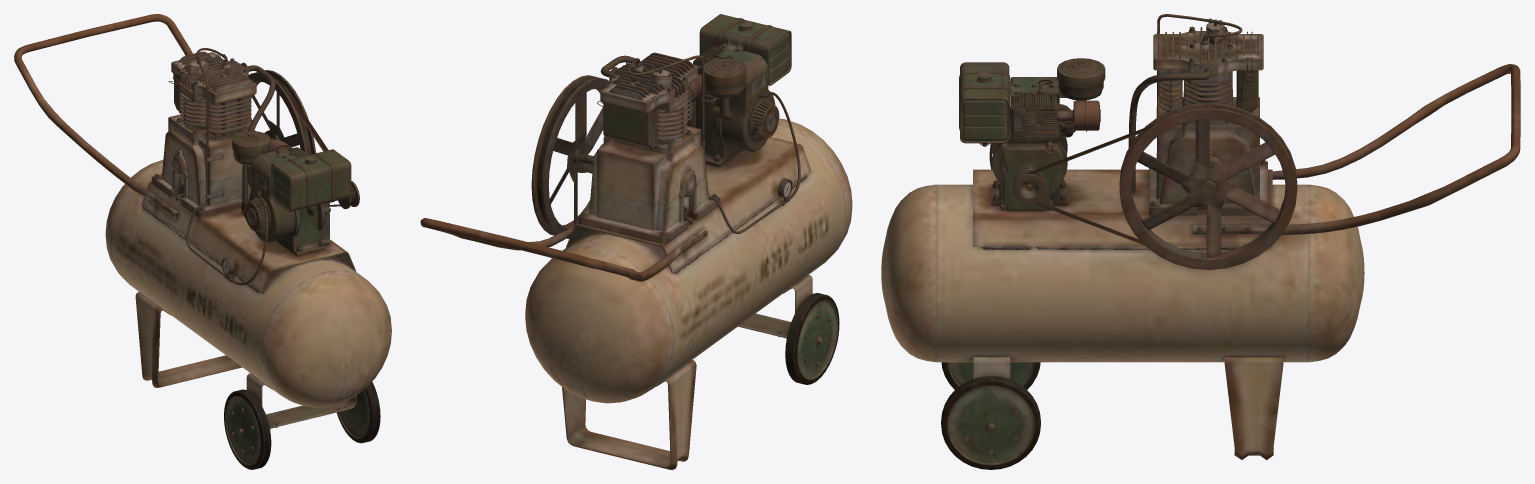
Rendered from compressor.glb.
The picture shows the model from 3 angles, left to right: view 1: azimuth 30°, elevation 25°; view 2: azimuth 150°, elevation 25°; view 3: azimuth 270°, elevation 25°; orthographic projection. The views are drawn at different scales.
Visible parts, largest first — view 1: old_military_compressor; view 2: old_military_compressor; view 3: old_military_compressor.
Part boxes in pixels (bbox=[...]): old_military_compressor: bbox=[14, 14, 391, 469]; old_military_compressor: bbox=[420, 14, 852, 469]; old_military_compressor: bbox=[881, 14, 1520, 469].
Bounding box in the file's own units: 0.5983 × 1.18 × 1.68.
2 materials, 2 textured.
